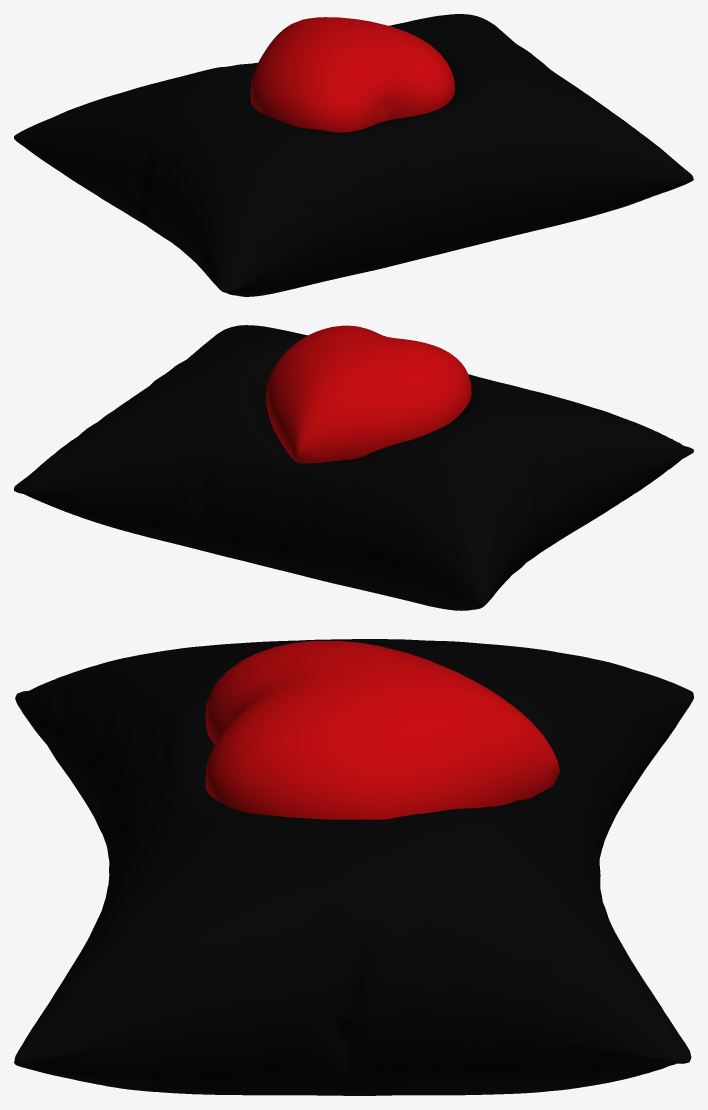
Rendered from PILLOW_HEART.fbx.
The picture shows the model from 3 angles, top to bottom: view 1: azimuth 30°, elevation 25°; view 2: azimuth 150°, elevation 25°; view 3: azimuth 270°, elevation 25°; orthographic projection. The views are drawn at different scales.
Parts seen in each view (by area): view 1: Box002, HEART_03; view 2: Box002, HEART_03; view 3: Box002, HEART_03.
Boxes of the visible parts, x1,y1,x2,y2 form: Box002: (14, 14, 693, 296); HEART_03: (250, 17, 454, 132); Box002: (14, 325, 693, 610); HEART_03: (266, 325, 471, 463); Box002: (14, 639, 693, 1095); HEART_03: (205, 640, 559, 819).
Bounding box in the file's own units: 19.06 × 8.2 × 14.87.
